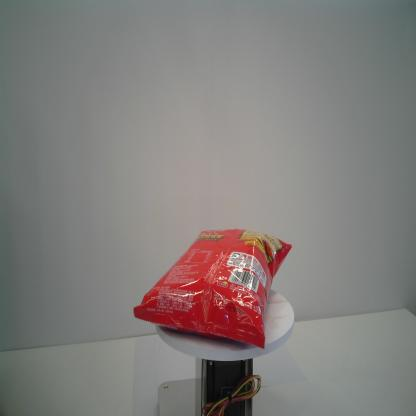Puffed Food: (133, 228, 293, 350)
